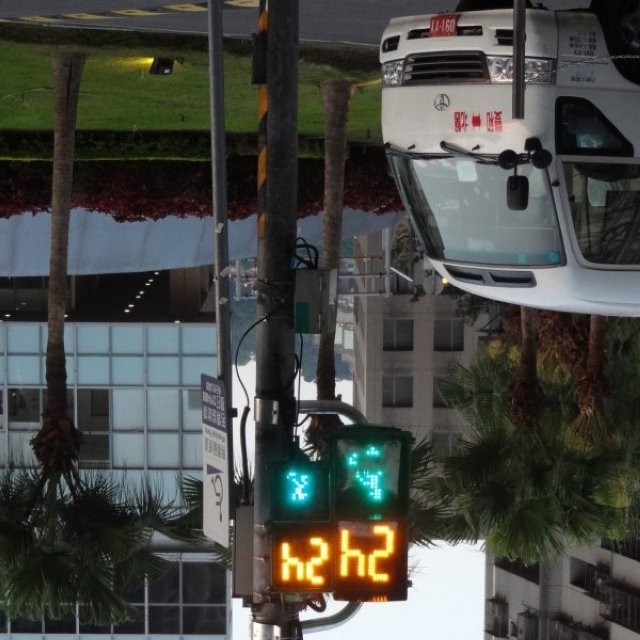green_light: (331, 430, 408, 601), (270, 460, 331, 593)
